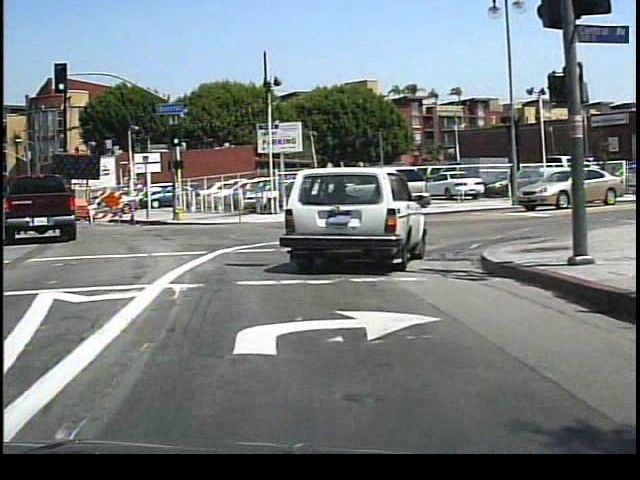person: (502, 161, 522, 204)
